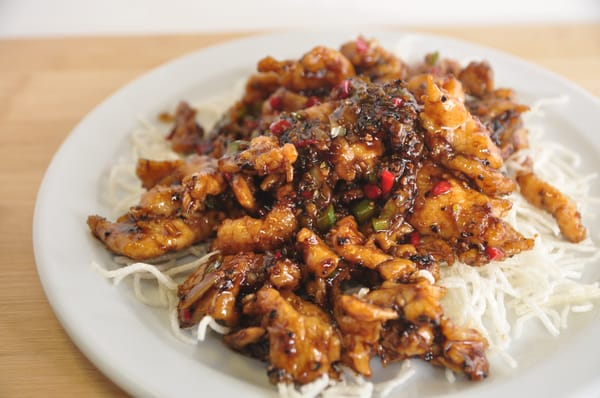curry: (2, 8, 594, 395)
